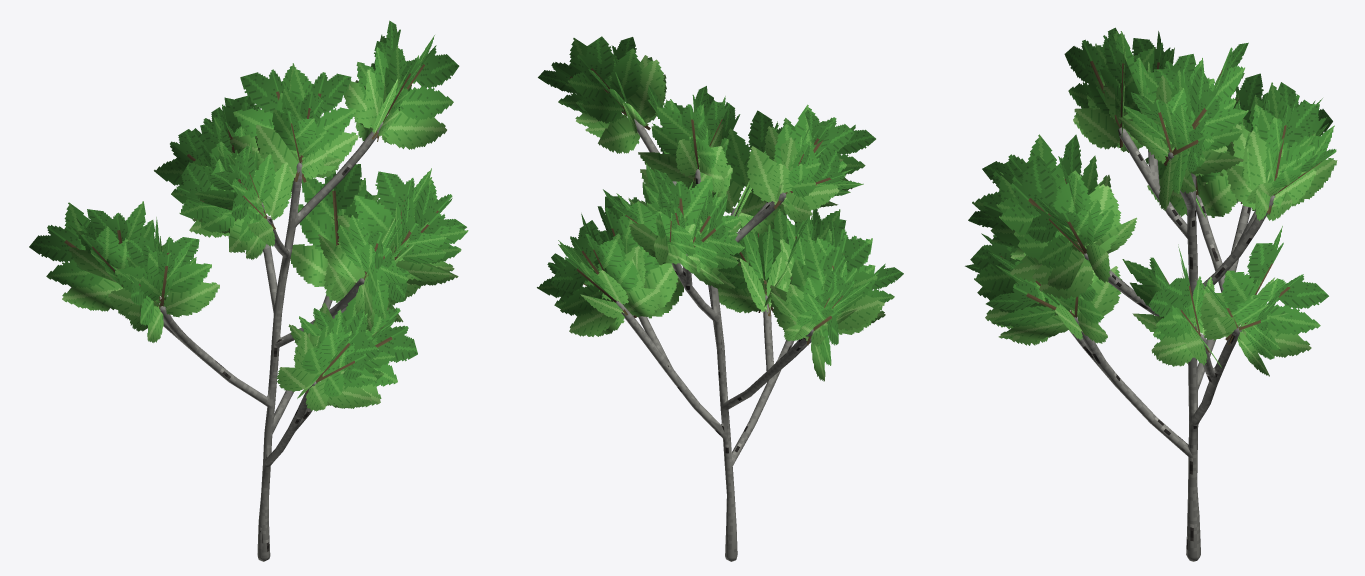
The model's file is environment_elmsapling4_v14.fbx.
3 views of the same model, side by side, from view 1: azimuth 30°, elevation 25°; view 2: azimuth 150°, elevation 25°; view 3: azimuth 270°, elevation 25° (orthographic). The views are drawn at different scales.
Parts seen in each view (by area): view 1: environment_elmsapling4_v14_lod0; view 2: environment_elmsapling4_v14_lod0; view 3: environment_elmsapling4_v14_lod0.
Boxes of the visible parts, left/top/right/bottom form: environment_elmsapling4_v14_lod0: left=29, top=20, right=468, bottom=561; environment_elmsapling4_v14_lod0: left=537, top=36, right=903, bottom=561; environment_elmsapling4_v14_lod0: left=965, top=27, right=1337, bottom=561.
Size of what is drawn, in the model's own units: 158 by 201 by 126.
Materials: 2 (2 with a texture image).
